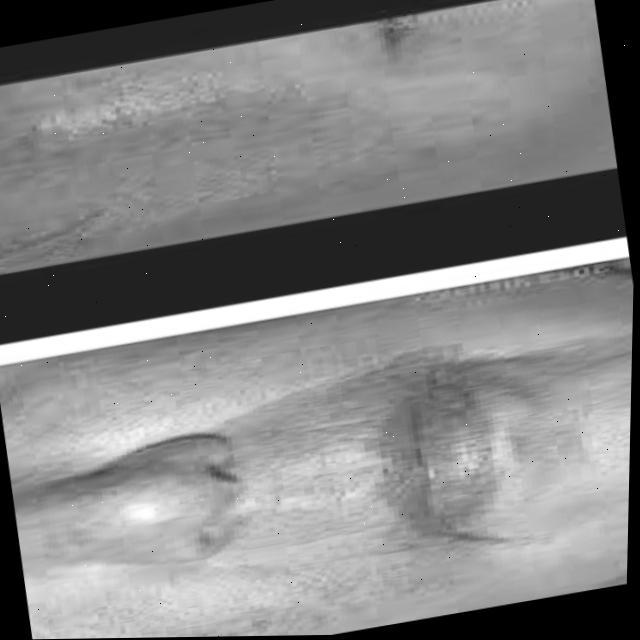Rosacea: (0, 36, 434, 252), (93, 297, 471, 442), (124, 528, 489, 638)
